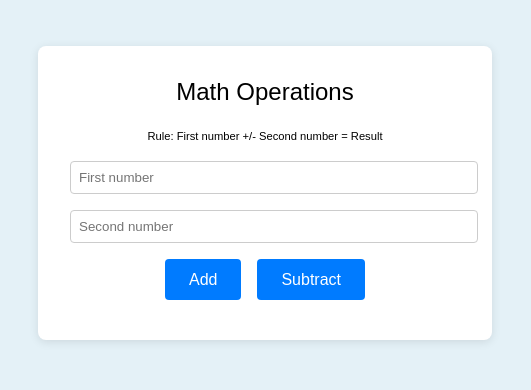
Test: handles fetch error for subtraction
Type "10" into the number field with placeholder "First number".
click(274, 178); type("10")  # box [70, 161, 478, 194]
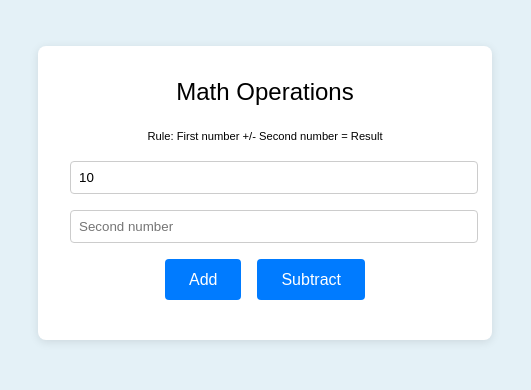
Type "2" into the number field with placeholder "Second number".
click(274, 227); type("2")  # box [70, 210, 478, 243]
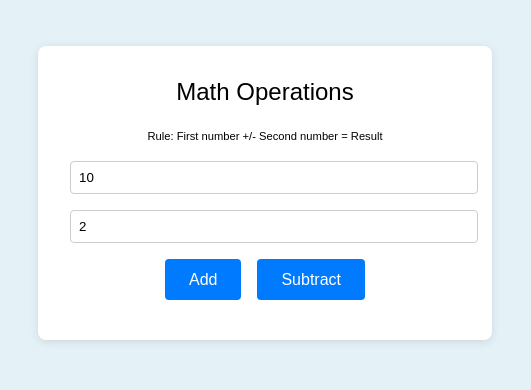
Click the button "Subtract".
click(311, 280)  # box [257, 259, 365, 300]
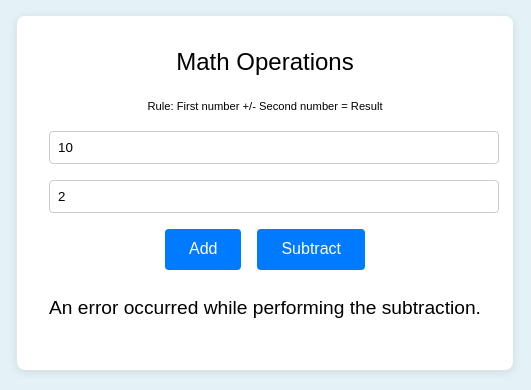
expect the text "An error occurred while performing the subtraction." is shown: met, box [49, 297, 481, 319]
